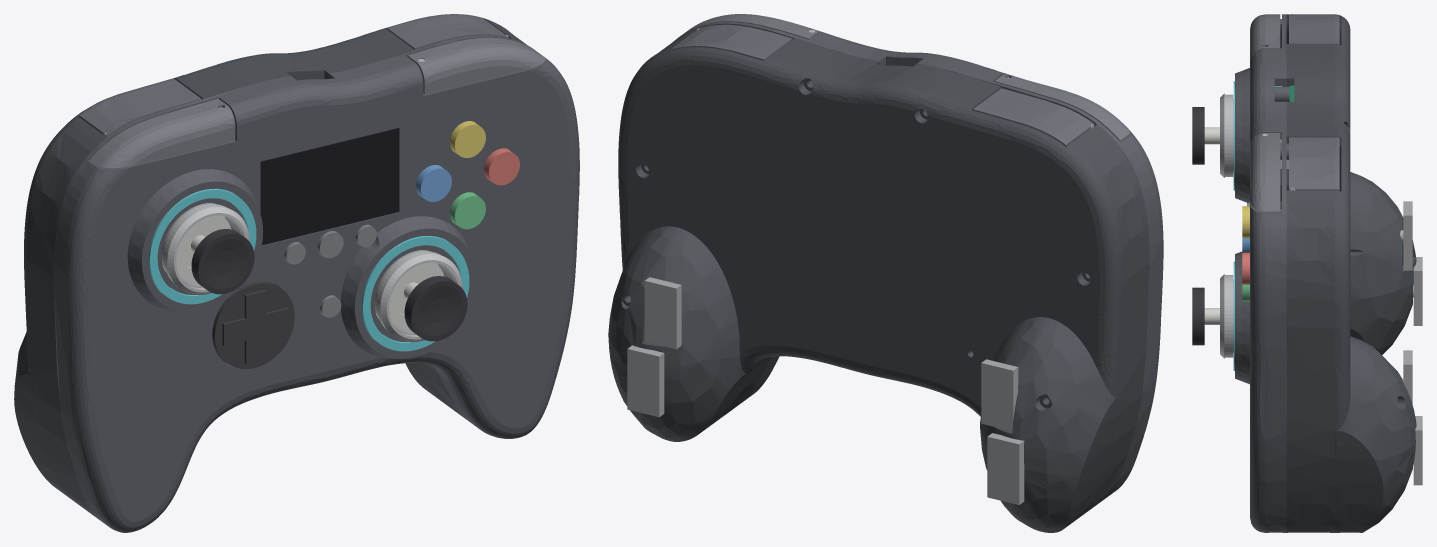
The model's file is kestrel_assembly.glb.
The picture shows the model from 3 angles, left to right: view 1: azimuth 30°, elevation 25°; view 2: azimuth 150°, elevation 25°; view 3: azimuth 270°, elevation 25°; orthographic projection. The views are drawn at different scales.
Parts seen in each view (by area): view 1: top_shell, bottom_shell, display_lens, dpad, bumper_L, bumper_R, trigger_L, stick_cap_R, stick_cap_L, glow_ring_R, glow_ring_L, trigger_R (+8 smaller); view 2: bottom_shell, top_shell, trigger_L, trigger_R, paddle_3, paddle_4, paddle_2, paddle_1, bumper_L, bumper_R; view 3: bottom_shell, top_shell, trigger_R, bumper_R, trigger_L, tension_ring_L, tension_ring_R, bumper_L, stick_cap_R, stick_cap_L, paddle_1, paddle_2 (+3 smaller).
Part boxes in pixels (x1,y1,x2,y2): top_shell: [53, 35, 579, 532]; bottom_shell: [14, 14, 526, 516]; display_lens: [260, 128, 398, 245]; dpad: [212, 281, 294, 368]; bumper_L: [90, 98, 235, 168]; bumper_R: [407, 37, 545, 93]; trigger_L: [78, 78, 201, 137]; stick_cap_R: [404, 276, 467, 341]; stick_cap_L: [191, 229, 254, 294]; glow_ring_R: [361, 236, 469, 351]; glow_ring_L: [148, 188, 256, 304]; trigger_R: [386, 14, 509, 49]; bottom_shell: [608, 27, 1149, 532]; top_shell: [681, 22, 1163, 496]; trigger_L: [973, 88, 1094, 147]; trigger_R: [671, 24, 792, 60]; paddle_3: [644, 277, 681, 349]; paddle_4: [627, 345, 664, 417]; paddle_2: [987, 433, 1024, 504]; paddle_1: [981, 359, 1018, 430]; bumper_L: [994, 73, 1130, 140]; bumper_R: [684, 14, 821, 39]; bottom_shell: [1286, 14, 1416, 532]; top_shell: [1235, 14, 1289, 532]; trigger_R: [1289, 137, 1339, 190]; bumper_R: [1250, 133, 1280, 211]; trigger_L: [1289, 14, 1339, 44]; tension_ring_L: [1220, 93, 1233, 177]; tension_ring_R: [1220, 274, 1233, 358]; bumper_L: [1250, 14, 1280, 60]; stick_cap_R: [1192, 287, 1204, 345]; stick_cap_L: [1192, 107, 1204, 164]; paddle_1: [1400, 201, 1412, 270]; paddle_2: [1413, 257, 1422, 325].
Size of the model in its own units: 0.1731 by 0.1309 by 0.0758.
